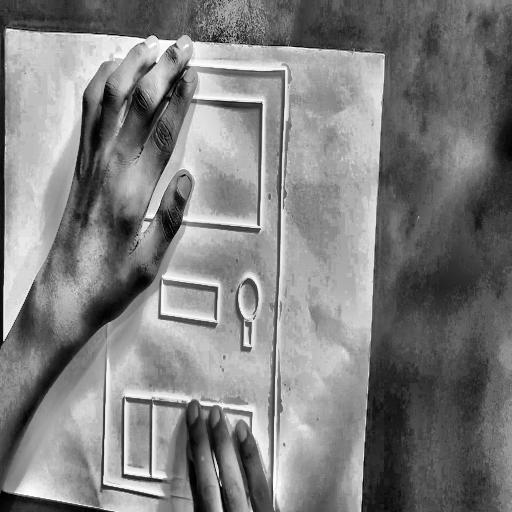bottom_left: (0, 481, 6, 494)
door: (96, 47, 292, 512)
top_left: (4, 25, 9, 33)
top_right: (382, 50, 387, 59)
